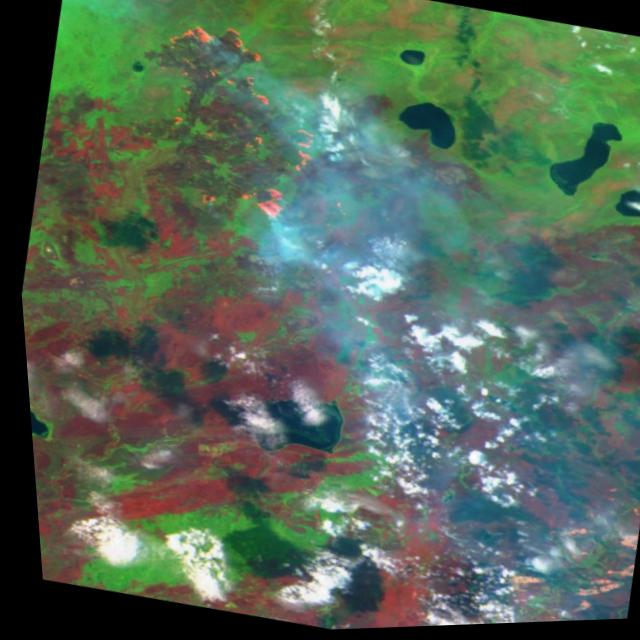fire: (117, 8, 346, 237)
